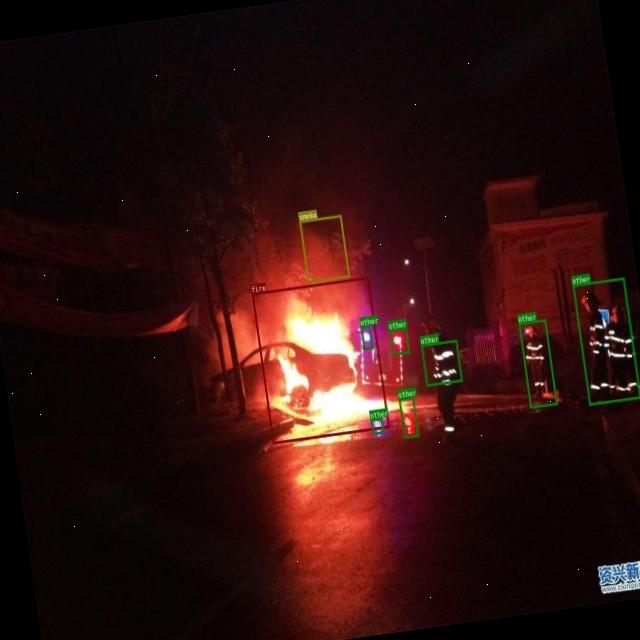fire: (252, 276, 389, 444)
smoke: (299, 215, 349, 283)
